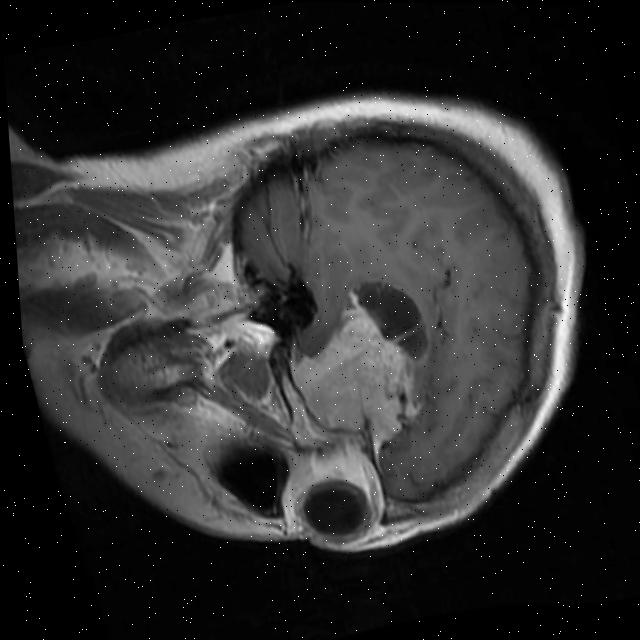Meningioma: (273, 296, 440, 461)
